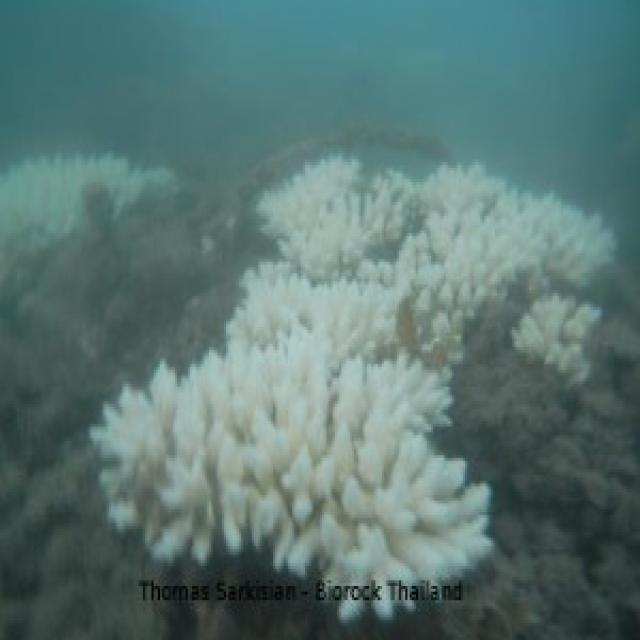Bleached: (93, 348, 492, 584), (430, 163, 613, 285), (229, 263, 421, 371), (1, 155, 174, 251), (261, 155, 402, 271), (398, 197, 511, 317), (513, 294, 598, 382)
Healthy: (3, 197, 347, 638), (440, 300, 639, 638)
